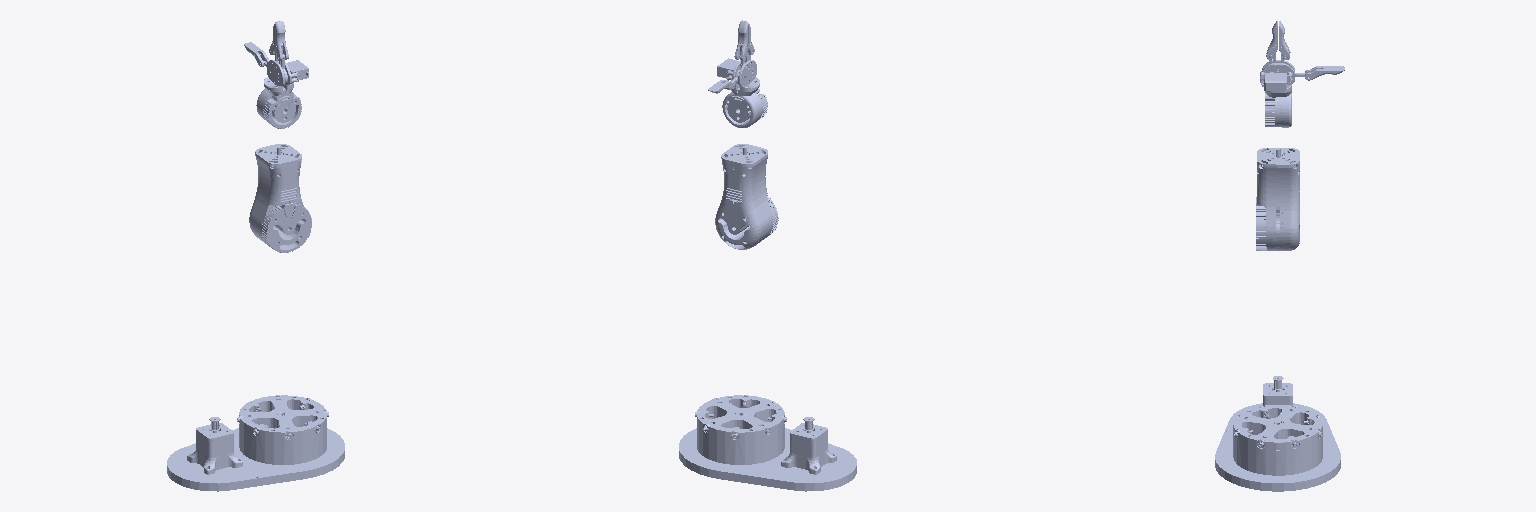
URDF robot description (urdf_v6):
<?xml version="1.0" encoding="utf-8"?>
<!-- This URDF was automatically created by SolidWorks to URDF Exporter! Originally created by [author] ([email redacted]) 
     Commit Version: 1.6.0-4-g7f85cfe  Build Version: 1.6.7995.38578
     For more information, please see http://wiki.ros.org/sw_urdf_exporter -->
<robot
  name="urdf_v6">
  <link
    name="base_link">
    <inertial>
      <origin
        xyz="-0.0435393633147197 1.22538169028963E-05 0.0288009133501953"
        rpy="0 0 0" />
      <mass
        value="1.80445503924572" />
      <inertia
        ixx="0.00557261131322256"
        ixy="1.30566290519985E-06"
        ixz="-0.0005394752363291"
        iyy="0.0133501948737187"
        iyz="4.50573008478839E-07"
        izz="0.0165394809238565" />
    </inertial>
    <visual>
      <origin
        xyz="0 0 0"
        rpy="0 0 0" />
      <geometry>
        <mesh
          filename="package://urdf_v6/meshes/base_link.STL" />
      </geometry>
      <material
        name="">
        <color
          rgba="0.792156862745098 0.819607843137255 0.933333333333333 1" />
      </material>
    </visual>
    <collision>
      <origin
        xyz="0 0 0"
        rpy="0 0 0" />
      <geometry>
        <mesh
          filename="package://urdf_v6/meshes/base_link.STL" />
      </geometry>
    </collision>
  </link>
  <link
    name="base">
    <inertial>
      <origin
        xyz="-3.64220613371935E-05 -0.0118679007139265 0.0827015228083967"
        rpy="0 0 0" />
      <mass
        value="2.09089475872425" />
      <inertia
        ixx="0.0136133851140563"
        ixy="4.81729455018461E-06"
        ixz="-8.59098005600618E-06"
        iyy="0.00966544956416376"
        iyz="-0.000408881345999419"
        izz="0.0088973254166239" />
    </inertial>
    <visual>
      <origin
        xyz="0 0 0"
        rpy="0 0 0" />
      <geometry>
        <mesh
          filename="package://urdf_v6/meshes/base.STL" />
      </geometry>
      <material
        name="">
        <color
          rgba="0.792156862745098 0.819607843137255 0.933333333333333 1" />
      </material>
    </visual>
    <collision>
      <origin
        xyz="0 0 0"
        rpy="0 0 0" />
      <geometry>
        <mesh
          filename="package://urdf_v6/meshes/base.STL" />
      </geometry>
    </collision>
  </link>
  <joint
    name="joint_1"
    type="continuous">
    <origin
      xyz="0 0 0.0805626889741612"
      rpy="0 0 -0.0137749399473416" />
    <parent
      link="base_link" />
    <child
      link="base" />
    <axis
      xyz="0 0 1" />
  </joint>
  <link
    name="shoulder">
    <inertial>
      <origin
        xyz="0.000114813008914028 0.00164617006420714 0.079941299499622"
        rpy="0 0 0" />
      <mass
        value="1.93113022389953" />
      <inertia
        ixx="0.0170861143573438"
        ixy="3.41445493508744E-06"
        ixz="-5.12124783514831E-07"
        iyy="0.0162696160765913"
        iyz="-0.000123088014208087"
        izz="0.00359987375629492" />
    </inertial>
    <visual>
      <origin
        xyz="0 0 0"
        rpy="0 0 0" />
      <geometry>
        <mesh
          filename="package://urdf_v6/meshes/shoulder.STL" />
      </geometry>
      <material
        name="">
        <color
          rgba="0.792156862745098 0.819607843137255 0.933333333333333 1" />
      </material>
    </visual>
    <collision>
      <origin
        xyz="0 0 0"
        rpy="0 0 0" />
      <geometry>
        <mesh
          filename="package://urdf_v6/meshes/shoulder.STL" />
      </geometry>
    </collision>
  </link>
  <joint
    name="joint_2"
    type="continuous">
    <origin
      xyz="0 0 0.166937311025839"
      rpy="0 -0.0401786148125149 0" />
    <parent
      link="base" />
    <child
      link="shoulder" />
    <axis
      xyz="0 1 0" />
  </joint>
  <link
    name="elbow">
    <inertial>
      <origin
        xyz="-7.46284000411879E-05 -0.000200828897958749 0.0430510838696092"
        rpy="0 0 0" />
      <mass
        value="0.777952518165427" />
      <inertia
        ixx="0.00228138046770369"
        ixy="6.74965199862466E-08"
        ixz="-6.02495655506959E-07"
        iyy="0.00230093015725931"
        iyz="-3.06257161229468E-05"
        izz="0.000730693959242888" />
    </inertial>
    <visual>
      <origin
        xyz="0 0 0"
        rpy="0 0 0" />
      <geometry>
        <mesh
          filename="package://urdf_v6/meshes/elbow.STL" />
      </geometry>
      <material
        name="">
        <color
          rgba="0.792156862745098 0.819607843137255 0.933333333333333 1" />
      </material>
    </visual>
    <collision>
      <origin
        xyz="0 0 0"
        rpy="0 0 0" />
      <geometry>
        <mesh
          filename="package://urdf_v6/meshes/elbow.STL" />
      </geometry>
    </collision>
  </link>
  <joint
    name="joint_3"
    type="continuous">
    <origin
      xyz="0 0 0.221123792803564"
      rpy="0 0.0401786148125149 0" />
    <parent
      link="shoulder" />
    <child
      link="elbow" />
    <axis
      xyz="0 1 0" />
  </joint>
  <link
    name="wrist_1">
    <inertial>
      <origin
        xyz="0.000153301962169394 0.00254377162844288 0.055207741934412"
        rpy="0 0 0" />
      <mass
        value="0.336033431090072" />
      <inertia
        ixx="0.000698588974148492"
        ixy="-1.06885826108427E-06"
        ixz="4.79930621860622E-06"
        iyy="0.000573509858053887"
        iyz="1.12101684178755E-05"
        izz="0.00034880665135678" />
    </inertial>
    <visual>
      <origin
        xyz="0 0 0"
        rpy="0 0 0" />
      <geometry>
        <mesh
          filename="package://urdf_v6/meshes/wrist_1.STL" />
      </geometry>
      <material
        name="">
        <color
          rgba="0.792156862745098 0.819607843137255 0.933333333333333 1" />
      </material>
    </visual>
    <collision>
      <origin
        xyz="0 0 0"
        rpy="0 0 0" />
      <geometry>
        <mesh
          filename="package://urdf_v6/meshes/wrist_1.STL" />
      </geometry>
    </collision>
  </link>
  <joint
    name="joint_4"
    type="continuous">
    <origin
      xyz="0 0.000500999999999752 0.129539254362443"
      rpy="0 0 0" />
    <parent
      link="elbow" />
    <child
      link="wrist_1" />
    <axis
      xyz="0 0 1" />
  </joint>
  <link
    name="wrist_2">
    <inertial>
      <origin
        xyz="1.77449738034685E-05 0.000385812686423459 0.00382819860326156"
        rpy="0 0 0" />
      <mass
        value="0.158623990907744" />
      <inertia
        ixx="8.93595780141306E-05"
        ixy="-2.6104335366422E-09"
        ixz="-6.69999126988928E-08"
        iyy="0.000106318526071325"
        iyz="-6.19881413589891E-07"
        izz="7.50977321539314E-05" />
    </inertial>
    <visual>
      <origin
        xyz="0 0 0"
        rpy="0 0 0" />
      <geometry>
        <mesh
          filename="package://urdf_v6/meshes/wrist_2.STL" />
      </geometry>
      <material
        name="">
        <color
          rgba="0.792156862745098 0.819607843137255 0.933333333333333 1" />
      </material>
    </visual>
    <collision>
      <origin
        xyz="0 0 0"
        rpy="0 0 0" />
      <geometry>
        <mesh
          filename="package://urdf_v6/meshes/wrist_2.STL" />
      </geometry>
    </collision>
  </link>
  <joint
    name="joint_5"
    type="continuous">
    <origin
      xyz="0 0 0.098960745637557"
      rpy="0 0 0" />
    <parent
      link="wrist_1" />
    <child
      link="wrist_2" />
    <axis
      xyz="0 1 0" />
  </joint>
  <link
    name="gripper_base">
    <inertial>
      <origin
        xyz="0.0143867469131291 -0.004491264671937 0.734040601419964"
        rpy="0 0 0" />
      <mass
        value="0.0669550612653824" />
      <inertia
        ixx="2.24885103661099E-05"
        ixy="2.35779531679998E-06"
        ixz="-2.87441655034307E-06"
        iyy="3.18452563754681E-05"
        iyz="3.5768386237082E-07"
        izz="3.67649414250802E-05" />
    </inertial>
    <visual>
      <origin
        xyz="0 0 0"
        rpy="0 0 0" />
      <geometry>
        <mesh
          filename="package://urdf_v6/meshes/gripper_base.STL" />
      </geometry>
      <material
        name="">
        <color
          rgba="0.792156862745098 0.819607843137255 0.933333333333333 1" />
      </material>
    </visual>
    <collision>
      <origin
        xyz="0 0 0"
        rpy="0 0 0" />
      <geometry>
        <mesh
          filename="package://urdf_v6/meshes/gripper_base.STL" />
      </geometry>
    </collision>
  </link>
  <joint
    name="joint_6"
    type="fixed">
    <origin
      xyz="0.00101787720548718 0.0025808298232558 -0.67198995308091"
      rpy="0 0 0" />
    <parent
      link="wrist_2" />
    <child
      link="gripper_base" />
    <axis
      xyz="0 0 0" />
  </joint>
  <link
    name="gripper_link_gear1">
    <inertial>
      <origin
        xyz="-0.00297507621777554 -0.000951057367850949 0.0079398699788471"
        rpy="0 0 0" />
      <mass
        value="0.0043827321176456" />
      <inertia
        ixx="9.89267955948116E-07"
        ixy="-2.40994203225474E-09"
        ixz="-4.25781962851361E-09"
        iyy="8.26887812970827E-07"
        iyz="-3.67426237267611E-08"
        izz="1.88326008679133E-07" />
    </inertial>
    <visual>
      <origin
        xyz="0 0 0"
        rpy="0 0 0" />
      <geometry>
        <mesh
          filename="package://urdf_v6/meshes/gripper_link_gear1.STL" />
      </geometry>
      <material
        name="">
        <color
          rgba="0.792156862745098 0.819607843137255 0.933333333333333 1" />
      </material>
    </visual>
    <collision>
      <origin
        xyz="0 0 0"
        rpy="0 0 0" />
      <geometry>
        <mesh
          filename="package://urdf_v6/meshes/gripper_link_gear1.STL" />
      </geometry>
    </collision>
  </link>
  <joint
    name="joint_7"
    type="continuous">
    <origin
      xyz="0.0022853 -0.016581 0.73698"
      rpy="0 0 0.013775" />
    <parent
      link="gripper_base" />
    <child
      link="gripper_link_gear1" />
    <axis
      xyz="0.99989 -0.013774 -0.0046829" />
  </joint>
  <link
    name="arm_1-1">
    <inertial>
      <origin
        xyz="-0.00973377146166055 -0.000471933127081436 0.0476840249962771"
        rpy="0 0 0" />
      <mass
        value="0.010675436027773" />
      <inertia
        ixx="4.10221542638023E-06"
        ixy="-1.70835615259974E-09"
        ixz="-9.73743634965072E-09"
        iyy="4.17675656599131E-06"
        iyz="-6.39760429315594E-07"
        izz="5.77179633857229E-07" />
    </inertial>
    <visual>
      <origin
        xyz="0 0 0"
        rpy="0 0 0" />
      <geometry>
        <mesh
          filename="package://urdf_v6/meshes/arm_1-1.STL" />
      </geometry>
      <material
        name="">
        <color
          rgba="0.792156862745098 0.819607843137255 0.933333333333333 1" />
      </material>
    </visual>
    <collision>
      <origin
        xyz="0 0 0"
        rpy="0 0 0" />
      <geometry>
        <mesh
          filename="package://urdf_v6/meshes/arm_1-1.STL" />
      </geometry>
    </collision>
  </link>
  <joint
    name="joint_11"
    type="continuous">
    <origin
      xyz="0.007183 0.0069017 0.019967"
      rpy="3.2949E-05 0 -0.013775" />
    <parent
      link="gripper_link_gear1" />
    <child
      link="arm_1-1" />
    <axis
      xyz="0.99999 0 -0.0046829" />
  </joint>
  <link
    name="gripper_link_gear2">
    <inertial>
      <origin
        xyz="0.00299448511430589 -0.0079342901160987 -0.000936572008506331"
        rpy="0 0 0" />
      <mass
        value="0.00438273213417134" />
      <inertia
        ixx="9.89317570900276E-07"
        ixy="1.98696485438238E-10"
        ixz="-7.64266725337186E-10"
        iyy="1.89001478883835E-07"
        iyz="4.23806799553428E-08"
        izz="8.26162828758777E-07" />
    </inertial>
    <visual>
      <origin
        xyz="0 0 0"
        rpy="0 0 0" />
      <geometry>
        <mesh
          filename="package://urdf_v6/meshes/gripper_link_gear2.STL" />
      </geometry>
      <material
        name="">
        <color
          rgba="0.792156862745098 0.819607843137255 0.933333333333333 1" />
      </material>
    </visual>
    <collision>
      <origin
        xyz="0 0 0"
        rpy="0 0 0" />
      <geometry>
        <mesh
          filename="package://urdf_v6/meshes/gripper_link_gear2.STL" />
      </geometry>
    </collision>
  </link>
  <joint
    name="joint_8"
    type="continuous">
    <origin
      xyz="0.0022853 0.011419 0.73698"
      rpy="-1.5621 -0.0047239 -3.1369" />
    <parent
      link="gripper_base" />
    <child
      link="gripper_link_gear2" />
    <axis
      xyz="0.99999 0 -0.0046829" />
    <mimic
      joint="joint_7"
      multiplier="-1"
      offset="1.57" />
  </joint>
  <link
    name="arm_2-1">
    <inertial>
      <origin
        xyz="-9.84377959941107E-05 -0.0497030843516875 0.764625845670785"
        rpy="0 0 0" />
      <mass
        value="0.0106754473499661" />
      <inertia
        ixx="4.1022168098121E-06"
        ixy="-1.70820374496244E-09"
        ixz="-9.7380613424295E-09"
        iyy="4.17675220827326E-06"
        iyz="-6.39774990649183E-07"
        izz="5.7718513361122E-07" />
    </inertial>
    <visual>
      <origin
        xyz="0 0 0"
        rpy="0 0 0" />
      <geometry>
        <mesh
          filename="package://urdf_v6/meshes/arm_2-1.STL" />
      </geometry>
      <material
        name="">
        <color
          rgba="0.792156862745098 0.819607843137255 0.933333333333333 1" />
      </material>
    </visual>
    <collision>
      <origin
        xyz="0 0 0"
        rpy="0 0 0" />
      <geometry>
        <mesh
          filename="package://urdf_v6/meshes/arm_2-1.STL" />
      </geometry>
    </collision>
  </link>
  <joint
    name="joint_12"
    type="fixed">
    <origin
      xyz="0.0069482 0.69744 0.050095"
      rpy="1.562 0.0046419 -0.0046828" />
    <parent
      link="gripper_link_gear2" />
    <child
      link="arm_2-1" />
    <axis
      xyz="0 0 0" />
  </joint>
  <link
    name="gripper_arm1">
    <inertial>
      <origin
        xyz="-0.00301389876356151 -0.0200002760914384 1.41279258195071E-05"
        rpy="0 0 0" />
      <mass
        value="0.00163735500294605" />
      <inertia
        ixx="3.04623057395787E-07"
        ixy="3.20123040714578E-14"
        ixz="-4.21698270838546E-12"
        iyy="1.02986323317114E-08"
        iyz="4.57633025591438E-13"
        izz="3.03722580975862E-07" />
    </inertial>
    <visual>
      <origin
        xyz="0 0 0"
        rpy="0 0 0" />
      <geometry>
        <mesh
          filename="package://urdf_v6/meshes/gripper_arm1.STL" />
      </geometry>
      <material
        name="">
        <color
          rgba="0.792156862745098 0.819607843137255 0.933333333333333 1" />
      </material>
    </visual>
    <collision>
      <origin
        xyz="0 0 0"
        rpy="0 0 0" />
      <geometry>
        <mesh
          filename="package://urdf_v6/meshes/gripper_arm1.STL" />
      </geometry>
    </collision>
  </link>
  <joint
    name="joint_9"
    type="continuous">
    <origin
      xyz="0.002394 -0.0095808 0.75697"
      rpy="-1.562 0.0046418 0.0046828" />
    <parent
      link="gripper_base" />
    <child
      link="gripper_arm1" />
    <axis
      xyz="0.99999 0 -0.0046829" />
    <mimic
      joint="joint_7"
      multiplier="1"
      offset="0" />
  </joint>
  <link
    name="arm_1-2">
    <inertial>
      <origin
        xyz="-9.84828106767588E-05 -0.0497042816650075 0.764625567407553"
        rpy="0 0 0" />
      <mass
        value="0.0106754360238712" />
      <inertia
        ixx="4.1022154255657E-06"
        ixy="-1.70800511800836E-09"
        ixz="-9.73759987582467E-09"
        iyy="4.17680108893613E-06"
        iyz="-6.39635160423968E-07"
        izz="5.77135110455824E-07" />
    </inertial>
    <visual>
      <origin
        xyz="0 0 0"
        rpy="0 0 0" />
      <geometry>
        <mesh
          filename="package://urdf_v6/meshes/arm_1-2.STL" />
      </geometry>
      <material
        name="">
        <color
          rgba="0.792156862745098 0.819607843137255 0.933333333333333 1" />
      </material>
    </visual>
    <collision>
      <origin
        xyz="0 0 0"
        rpy="0 0 0" />
      <geometry>
        <mesh
          filename="package://urdf_v6/meshes/arm_1-2.STL" />
      </geometry>
    </collision>
  </link>
  <joint
    name="joint_13"
    type="fixed">
    <origin
      xyz="0.00090173 0.71738 0.042906"
      rpy="1.562 0.0046416 -0.0046828" />
    <parent
      link="gripper_arm1" />
    <child
      link="arm_1-2" />
    <axis
      xyz="0 0 0" />
  </joint>
  <link
    name="gripper_arm2">
    <inertial>
      <origin
        xyz="-0.00305619463329498 0.019999744563124 1.39142465030995E-05"
        rpy="0 0 0" />
      <mass
        value="0.00163735500294598" />
      <inertia
        ixx="3.04623057395776E-07"
        ixy="-1.35805441091839E-15"
        ixz="-4.2169827211882E-12"
        iyy="1.02986324573205E-08"
        iyz="6.08829176103457E-12"
        izz="3.03722580850236E-07" />
    </inertial>
    <visual>
      <origin
        xyz="0 0 0"
        rpy="0 0 0" />
      <geometry>
        <mesh
          filename="package://urdf_v6/meshes/gripper_arm2.STL" />
      </geometry>
      <material
        name="">
        <color
          rgba="0.792156862745098 0.819607843137255 0.933333333333333 1" />
      </material>
    </visual>
    <collision>
      <origin
        xyz="0 0 0"
        rpy="0 0 0" />
      <geometry>
        <mesh
          filename="package://urdf_v6/meshes/gripper_arm2.STL" />
      </geometry>
    </collision>
  </link>
  <joint
    name="joint_10"
    type="continuous">
    <origin
      xyz="0.0024363 0.0044192 0.75697"
      rpy="1.562 0.0046419 -0.0046828" />
    <parent
      link="gripper_base" />
    <child
      link="gripper_arm2" />
    <axis
      xyz="0.99999 0 -0.0046829" />
    <mimic
      joint="joint_9"
      multiplier="-1"
      offset="0" />
  </joint>
  <link
    name="arm_2-2">
    <inertial>
      <origin
        xyz="0.00972101962706745 -0.0214757007574 0.0675920673503206"
        rpy="0 0 0" />
      <mass
        value="0.0106754473499664" />
      <inertia
        ixx="4.10221680921868E-06"
        ixy="-1.70782951940806E-09"
        ixz="-9.7382358449047E-09"
        iyy="4.17679967350685E-06"
        iyz="-6.39641448068453E-07"
        izz="5.77137668971166E-07" />
    </inertial>
    <visual>
      <origin
        xyz="0 0 0"
        rpy="0 0 0" />
      <geometry>
        <mesh
          filename="package://urdf_v6/meshes/arm_2-2.STL" />
      </geometry>
      <material
        name="">
        <color
          rgba="0.792156862745098 0.819607843137255 0.933333333333333 1" />
      </material>
    </visual>
    <collision>
      <origin
        xyz="0 0 0"
        rpy="0 0 0" />
      <geometry>
        <mesh
          filename="package://urdf_v6/meshes/arm_2-2.STL" />
      </geometry>
    </collision>
  </link>
  <joint
    name="joint_14"
    type="continuous">
    <origin
      xyz="0.00641 -0.020183 0.020794"
      rpy="1.562 -0.004724 3.1369" />
    <parent
      link="gripper_arm2" />
    <child
      link="arm_2-2" />
    <axis
      xyz="0.99999 0 -0.0046829" />
  </joint>
</robot>

--- What the picture shows (computed from the rendered views, not written in the file) ---
Views: 3 orthographic renders of the robot side by side, from view 1: azimuth 30°, elevation 25°; view 2: azimuth 150°, elevation 25°; view 3: azimuth 270°, elevation 25°.
Robot: urdf_v6 — 15 links, 14 joints (11 continuous, 3 fixed); root link base_link; default pose: all joints at 0.
Links seen in each view (by area): view 1: base_link, elbow, wrist_2, gripper_base; view 2: base_link, elbow, wrist_2, gripper_base; view 3: base_link, elbow, gripper_base, wrist_2.
Boxes of the visible links, x1=… form: base_link: x1=167, y1=395, x2=344, y2=491; elbow: x1=249, y1=144, x2=311, y2=252; wrist_2: x1=256, y1=87, x2=301, y2=128; gripper_base: x1=264, y1=60, x2=308, y2=91; base_link: x1=679, y1=395, x2=856, y2=491; elbow: x1=715, y1=144, x2=778, y2=249; wrist_2: x1=722, y1=87, x2=767, y2=127; gripper_base: x1=717, y1=58, x2=759, y2=91; base_link: x1=1215, y1=376, x2=1340, y2=491; elbow: x1=1256, y1=148, x2=1299, y2=250; gripper_base: x1=1260, y1=60, x2=1294, y2=92; wrist_2: x1=1265, y1=90, x2=1291, y2=127.
Bounding box of the posed robot: 0.3415 × 0.2317 × 0.8665 m (x, y, z).
Meshes: 15 distinct files referenced, 12 mesh visuals loaded (12 binary STL); not drawn: 3 (reference not matched to a file when rendering).